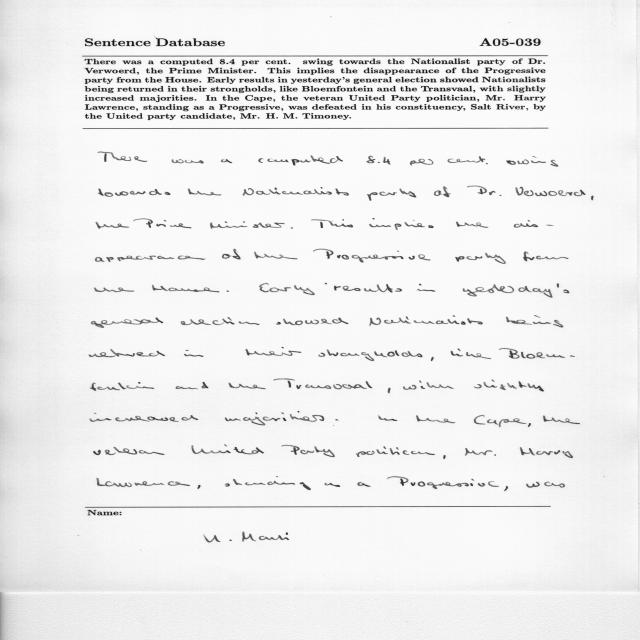word: (313, 249, 431, 263), (463, 283, 570, 298), (225, 412, 324, 426), (387, 477, 499, 489), (318, 349, 423, 361), (369, 315, 483, 326), (225, 477, 311, 490), (274, 379, 373, 389), (90, 413, 198, 422), (243, 187, 349, 196), (259, 155, 343, 166), (356, 446, 435, 457), (474, 380, 544, 392), (97, 478, 190, 487), (499, 348, 575, 359), (92, 317, 164, 328), (369, 218, 434, 230), (96, 255, 206, 262), (325, 283, 402, 293), (191, 445, 264, 455), (506, 316, 563, 328), (259, 283, 315, 295), (281, 445, 335, 457), (99, 188, 170, 197), (516, 187, 586, 196), (465, 447, 535, 456), (181, 317, 259, 325), (474, 415, 526, 427), (447, 156, 516, 165), (89, 349, 165, 357), (210, 221, 285, 229), (367, 189, 416, 201), (134, 219, 192, 229), (90, 382, 154, 391), (455, 253, 506, 264), (94, 447, 164, 455), (277, 318, 349, 325), (246, 347, 302, 356), (98, 152, 147, 162), (152, 285, 219, 292), (403, 381, 454, 390), (518, 156, 559, 167), (524, 252, 569, 262), (451, 349, 491, 360), (311, 219, 353, 228), (467, 186, 501, 196), (543, 416, 580, 425), (514, 220, 554, 228), (417, 416, 456, 424), (254, 252, 298, 259), (536, 450, 573, 458), (526, 482, 565, 488), (188, 189, 221, 196), (96, 222, 129, 229), (176, 382, 209, 389), (229, 383, 266, 389), (367, 156, 391, 165), (95, 287, 135, 292), (456, 222, 489, 228), (222, 249, 241, 259), (434, 186, 450, 197), (410, 159, 433, 166), (172, 159, 204, 164), (417, 284, 436, 292), (184, 350, 204, 357), (379, 415, 398, 421), (357, 482, 371, 487), (325, 483, 340, 487), (221, 159, 232, 163), (504, 486, 508, 491), (197, 485, 201, 489), (591, 196, 594, 200), (431, 357, 434, 361), (528, 423, 531, 427), (443, 455, 446, 459), (388, 388, 390, 393), (335, 419, 339, 421), (226, 290, 229, 292), (291, 227, 293, 229)
